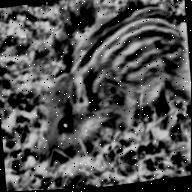boar: (25, 0, 192, 160)
